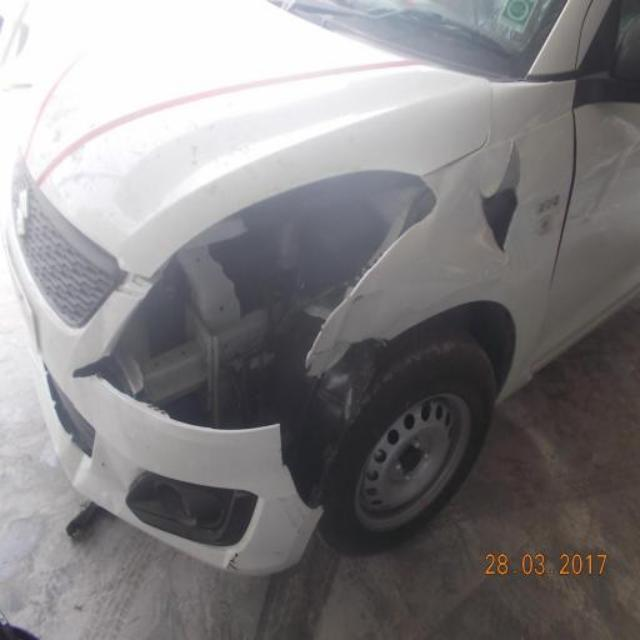crack: (475, 136, 531, 263), (219, 546, 249, 576)
dent: (95, 442, 133, 522)
no part: (66, 167, 442, 522)
